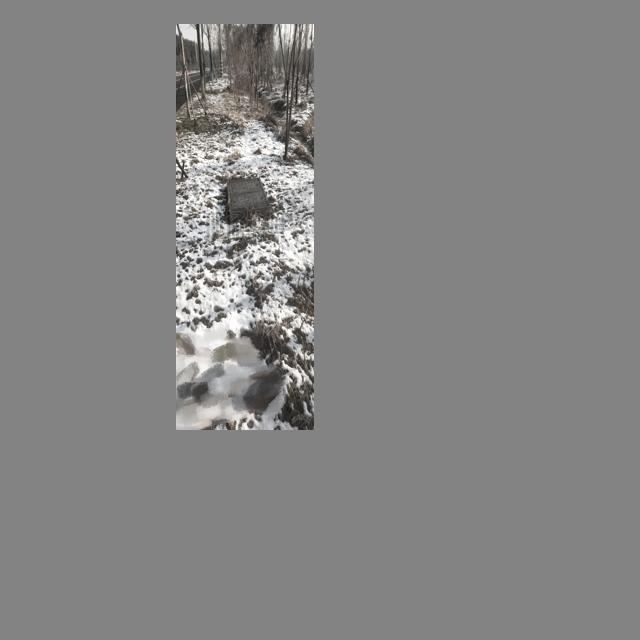circle: (224, 177, 274, 226)
